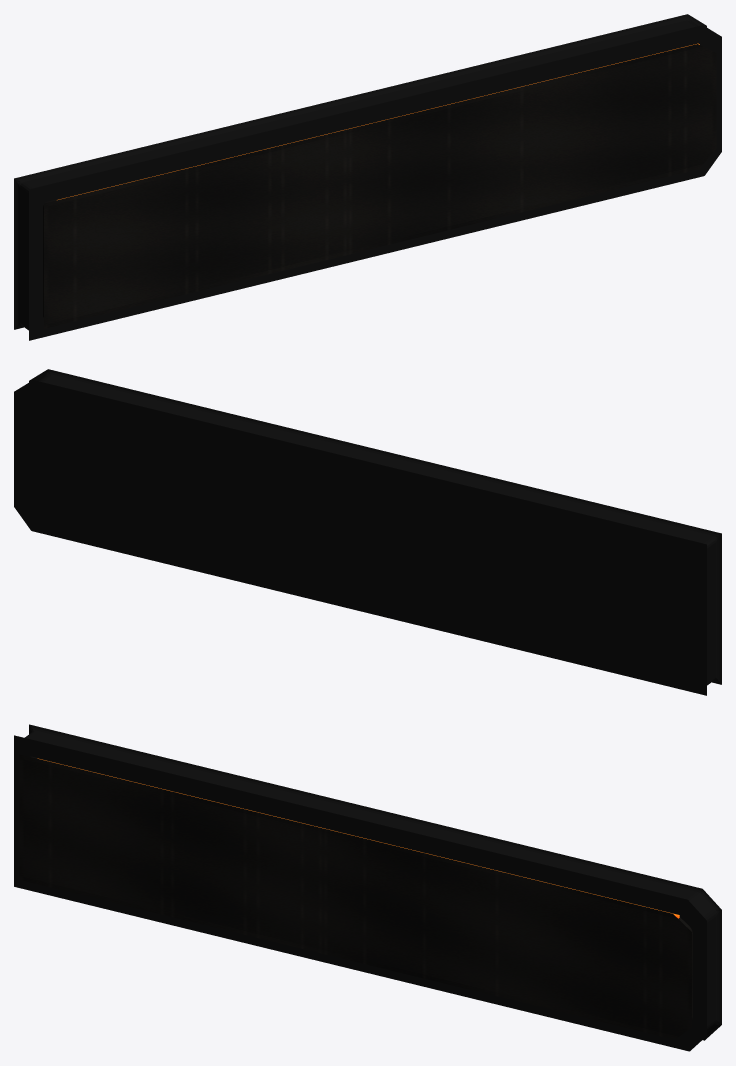
The model's file is chevy-timer.glb.
3 renders of one model, top to bottom at view 1: azimuth 30°, elevation 25°; view 2: azimuth 150°, elevation 25°; view 3: azimuth 330°, elevation 25°, orthographic.
Visible parts, largest first — view 1: Timer_Face, Timer_Backplate, Timer_TopAccent; view 2: Timer_Backplate; view 3: Timer_Face, Timer_Backplate, Timer_TopAccent.
Part boxes in pixels (<box>): Timer_Face: <box>43,44,716,328</box>; Timer_Backplate: <box>14,14,721,340</box>; Timer_TopAccent: <box>57,43,699,200</box>; Timer_Backplate: <box>14,369,721,695</box>; Timer_Face: <box>19,754,692,1039</box>; Timer_Backplate: <box>14,724,721,1051</box>; Timer_TopAccent: <box>37,758,679,918</box>.
Size of the model in its own units: 4.55 by 0.95 by 0.2255.
4 materials, 1 textured.
